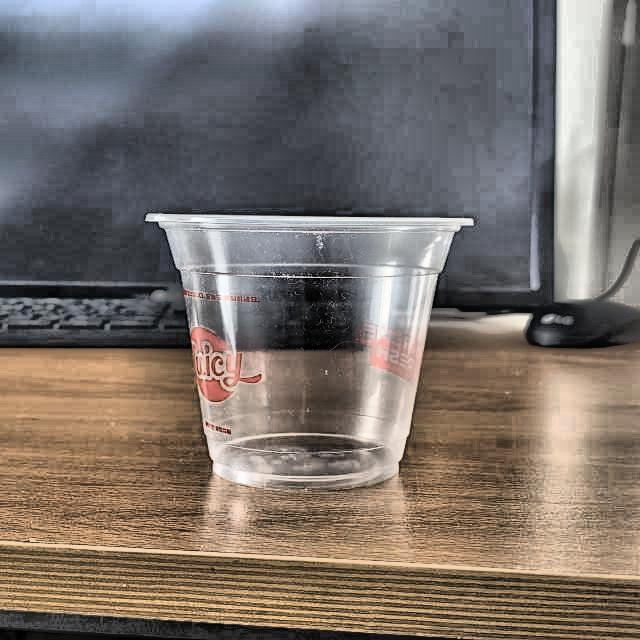plastic cup: (145, 210, 478, 488)
